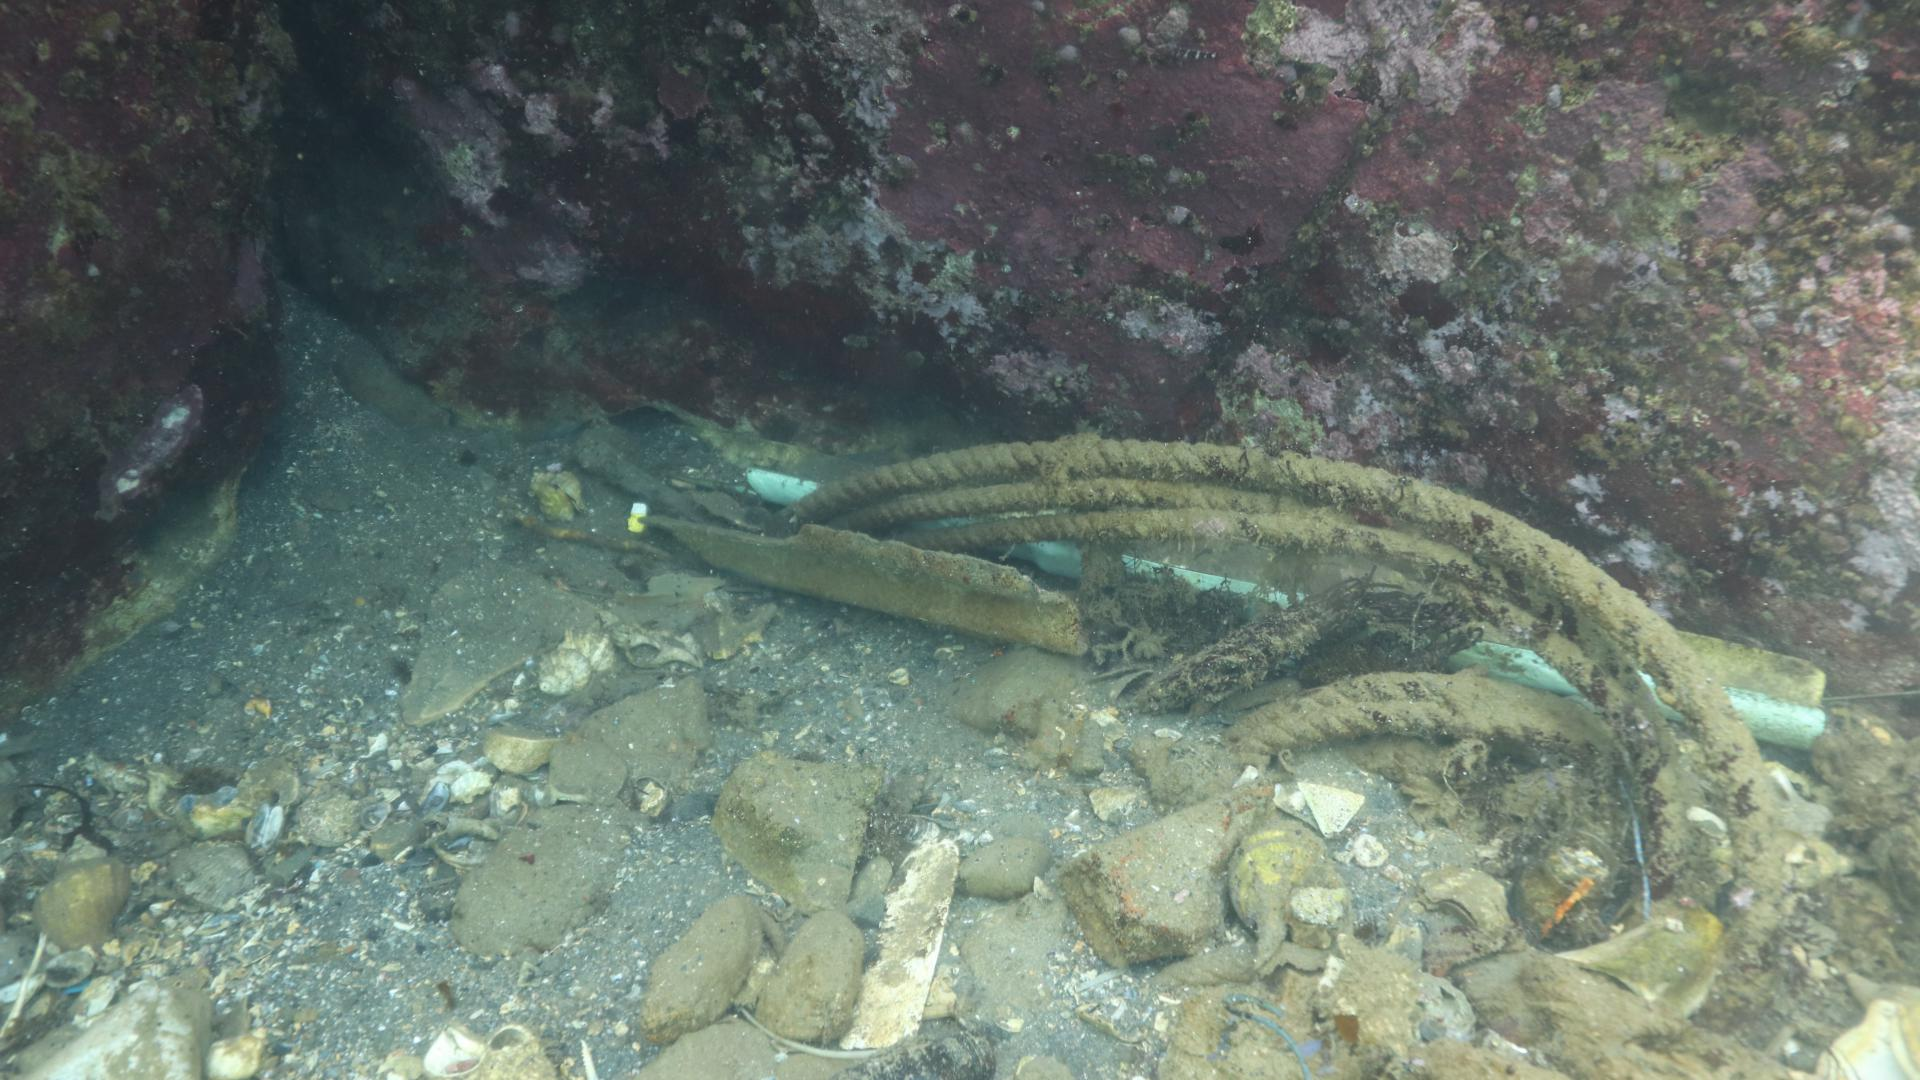bundle of ropes: (766, 436, 1779, 906)
